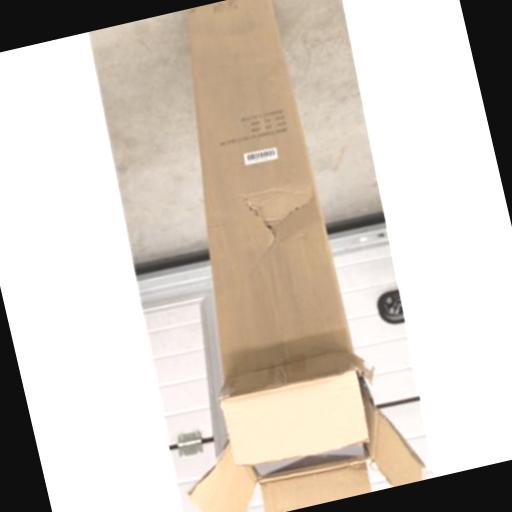torn: (229, 162, 326, 264)
